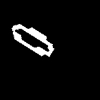chain: (12, 24, 53, 55)
